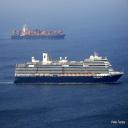cruises: (15, 51, 125, 86)
